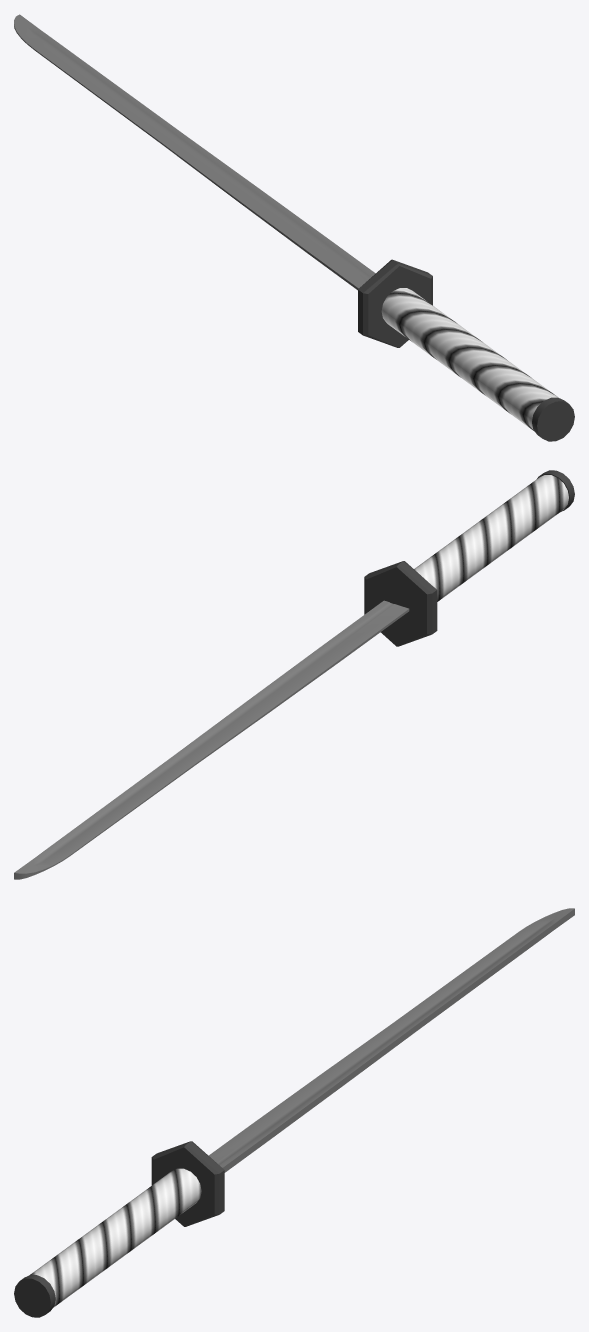
File: SM_Sword.glb
3 renders of one model, top to bottom at view 1: azimuth 30°, elevation 25°; view 2: azimuth 150°, elevation 25°; view 3: azimuth 330°, elevation 25°, orthographic. The views are drawn at different scales.
Visible parts, largest first — view 1: SM_Sword; view 2: SM_Sword; view 3: SM_Sword.
Part boxes in pixels (x1,y1,x2,y2): SM_Sword: (14, 14, 574, 441); SM_Sword: (14, 470, 574, 879); SM_Sword: (14, 908, 574, 1317).
Bounding box in the file's own units: 0.1418 × 0.1637 × 1.92.
Materials: 3 (1 with a texture image).
